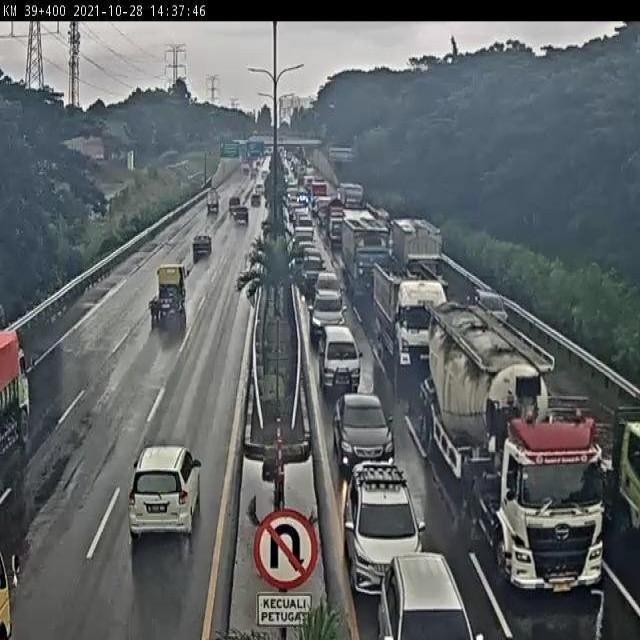big truck: (405, 296, 623, 604), (564, 349, 640, 560), (359, 257, 463, 372), (0, 521, 49, 640)
car: (330, 464, 441, 600), (120, 425, 205, 548), (377, 546, 472, 640), (318, 393, 415, 479), (311, 327, 379, 400), (305, 290, 355, 342), (476, 269, 519, 328), (189, 222, 225, 270), (313, 269, 347, 307), (225, 192, 249, 215), (233, 210, 253, 233)
small truck: (0, 308, 41, 464), (337, 213, 399, 290), (142, 257, 198, 336), (390, 217, 463, 276), (199, 178, 221, 218)
